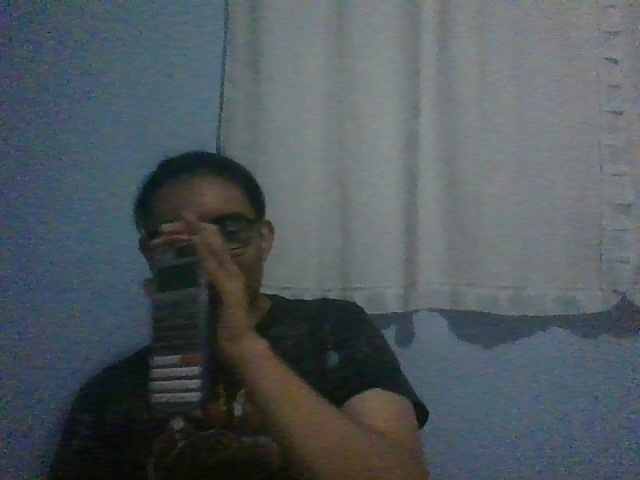calculadora: (146, 241, 212, 413)
